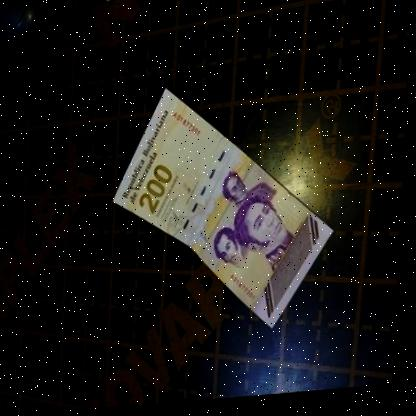two_hundred-front-vef: (106, 77, 346, 344)
